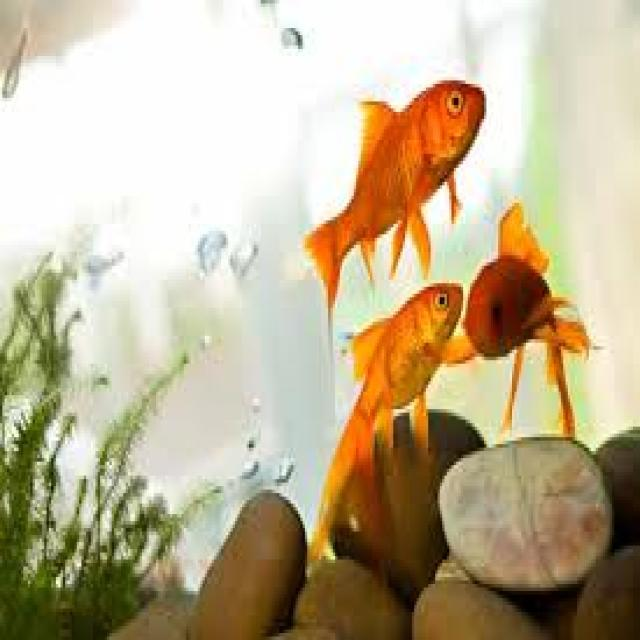goldfish: (311, 285, 462, 557), (305, 81, 485, 306), (444, 202, 590, 438)
